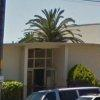Palm tree: (25, 5, 83, 41)
